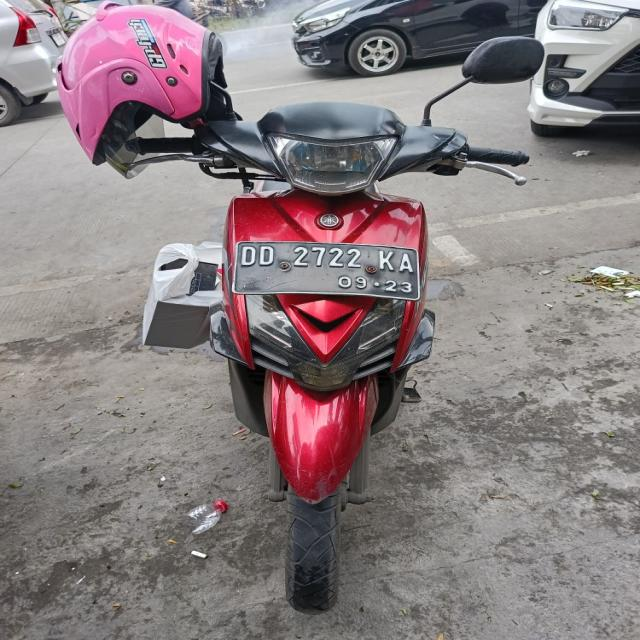plates: (226, 240, 427, 301)
